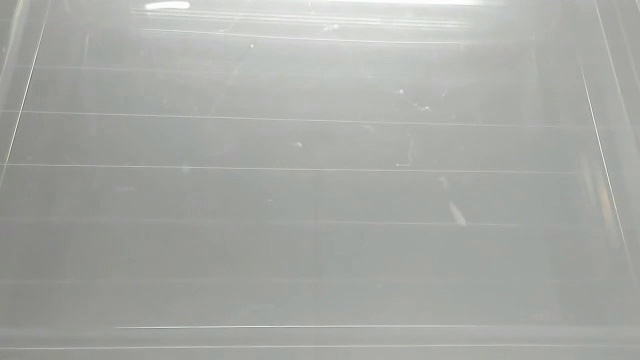alpha: (435, 172, 475, 232), (140, 1, 194, 13)
